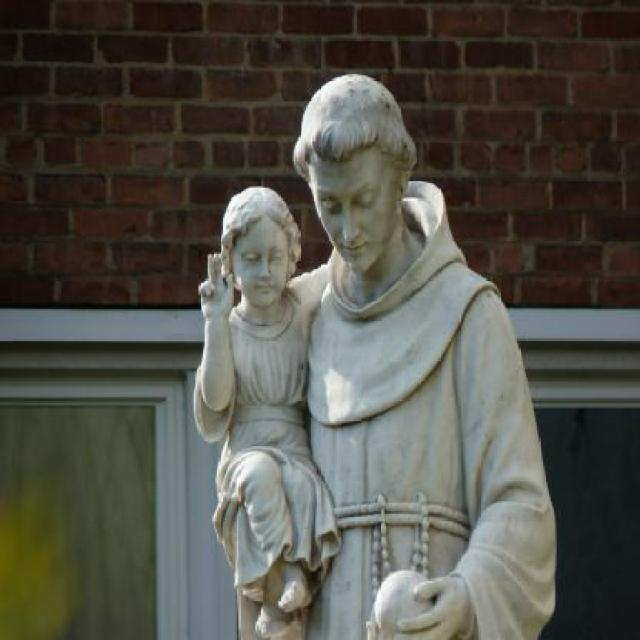Person: (209, 72, 557, 638), (185, 164, 343, 631)
